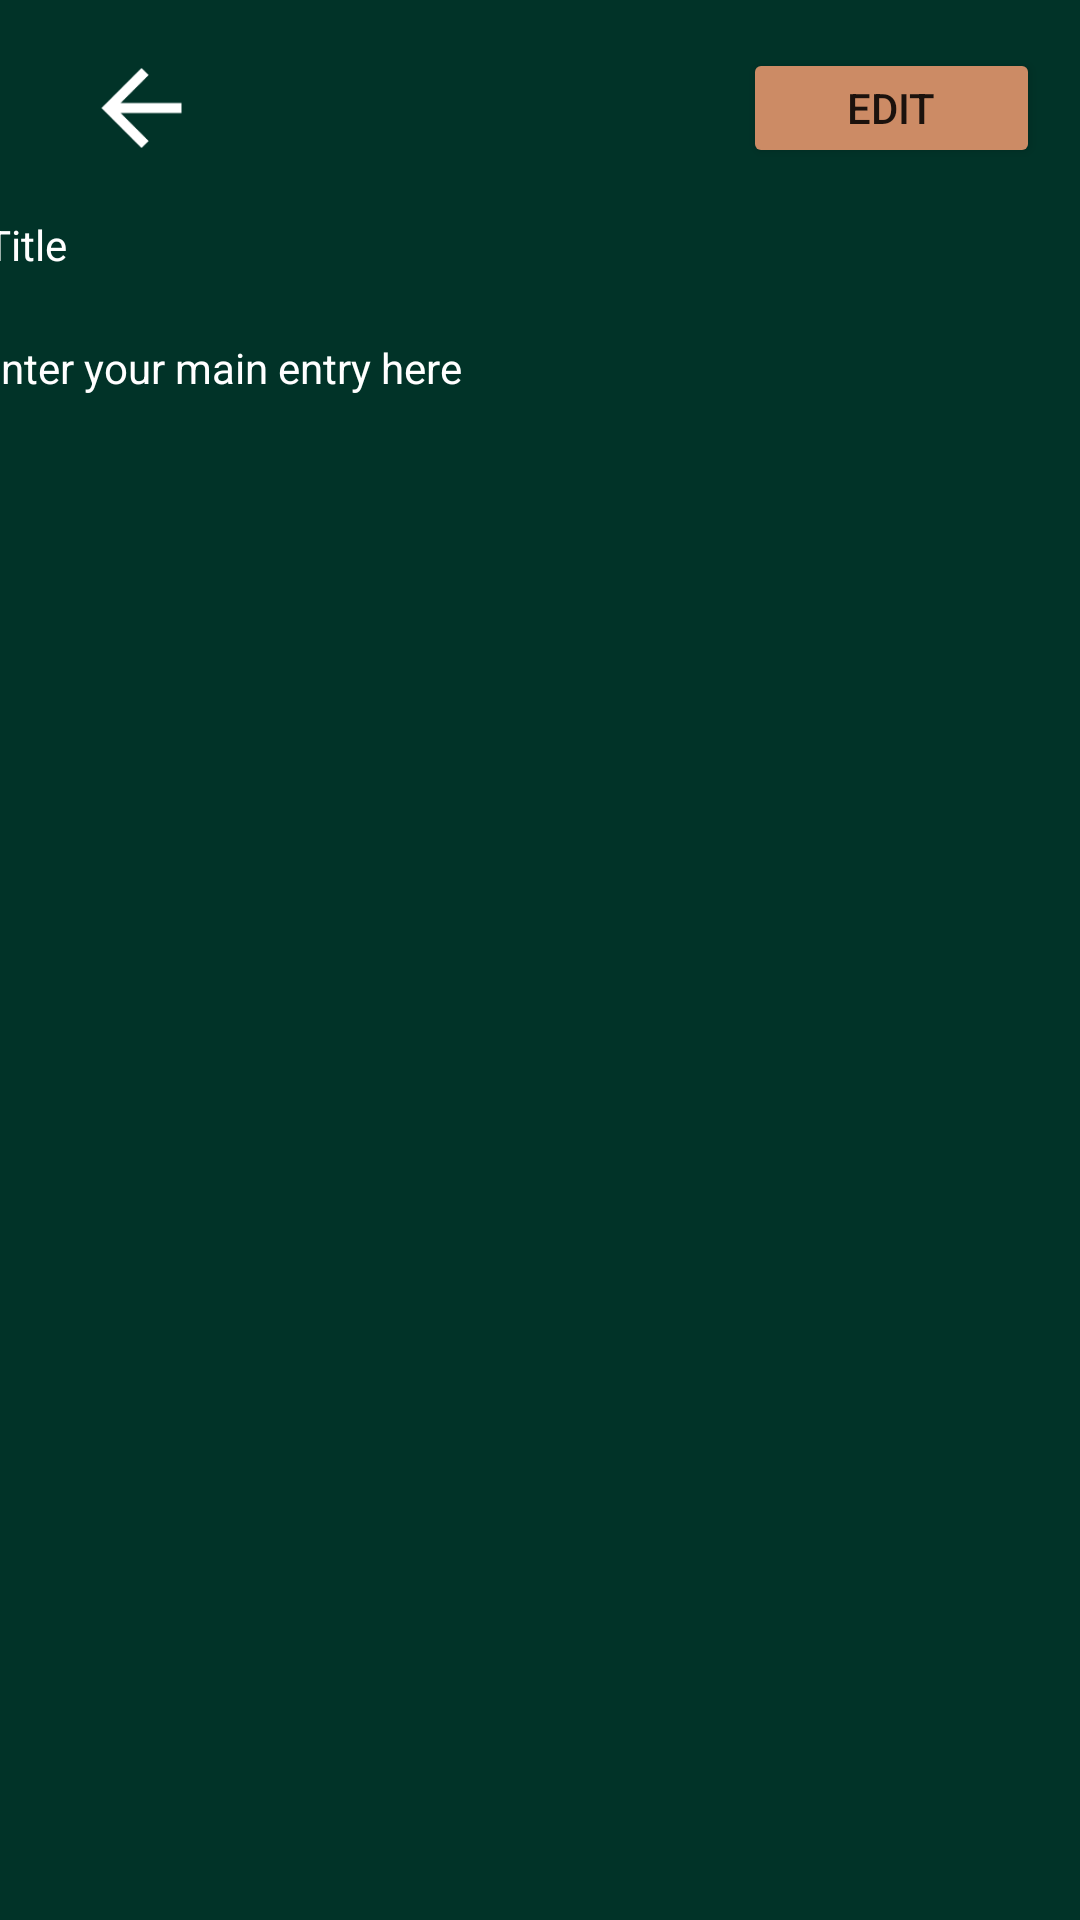

Icon click points for this 1080×1920 phone screenshot, format point (x, y):
back: point (141, 108)
